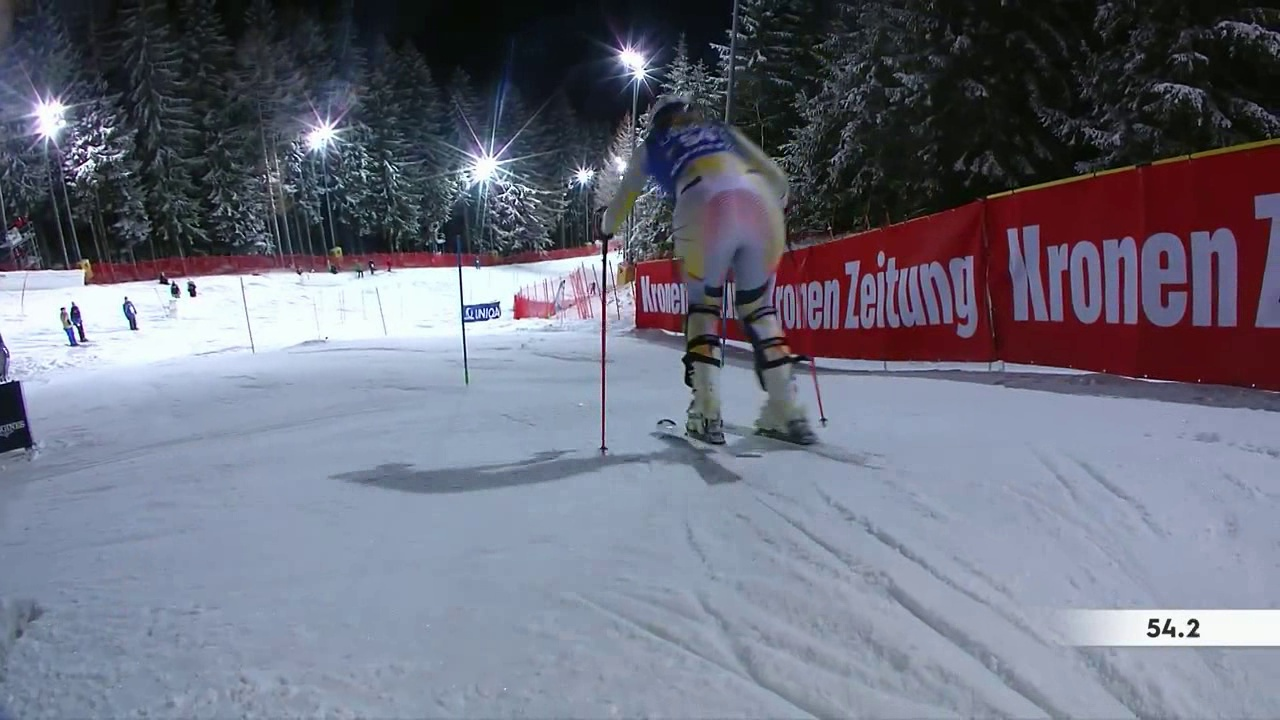kronenzeitung: (1010, 163, 1258, 371), (778, 250, 974, 345)
